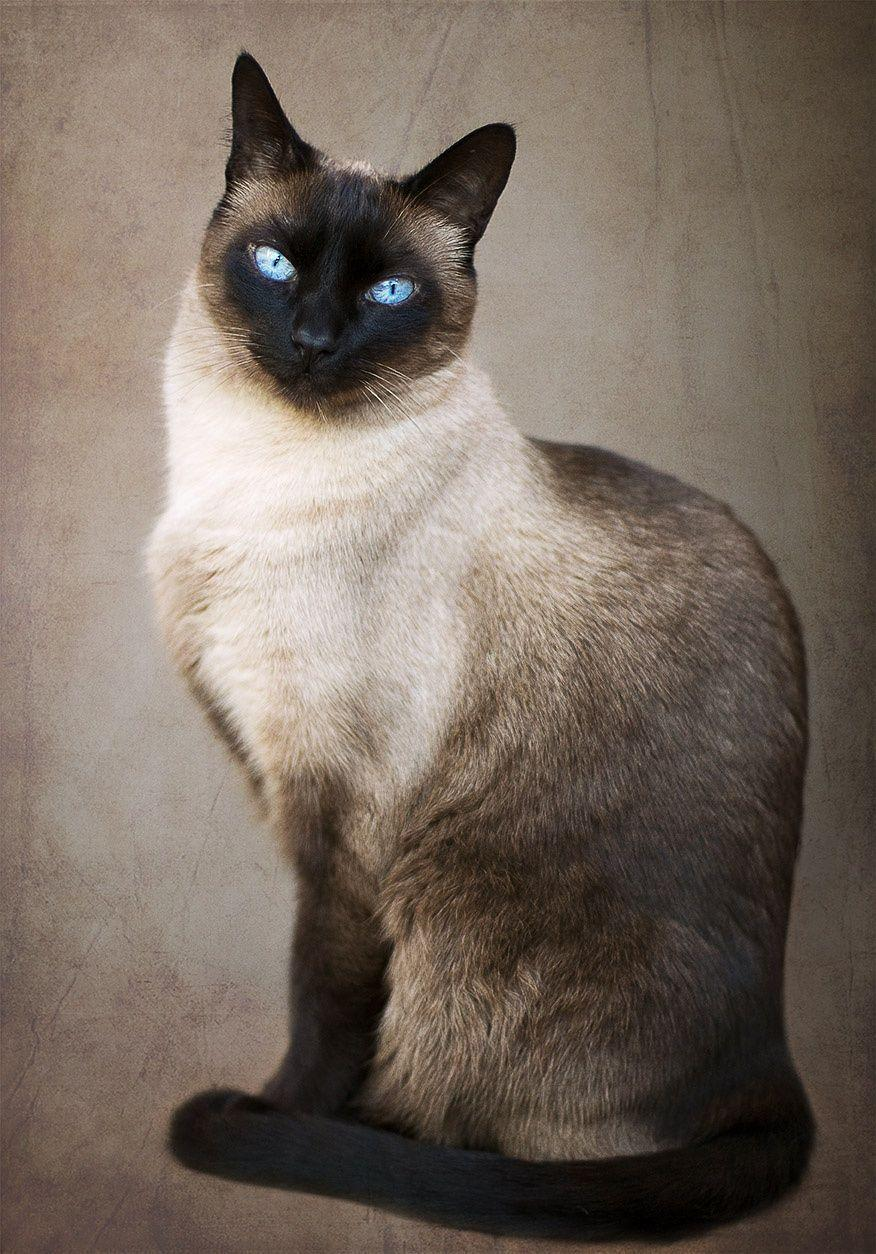siamese: (165, 35, 541, 441)
